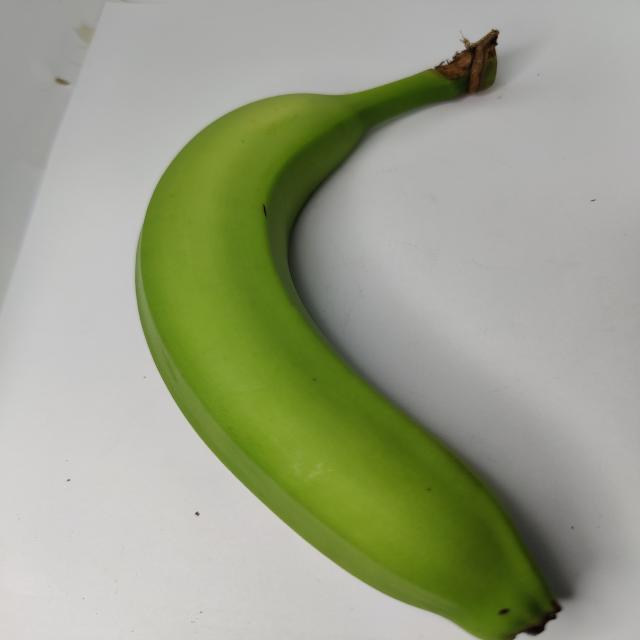raw: (96, 11, 593, 640)
